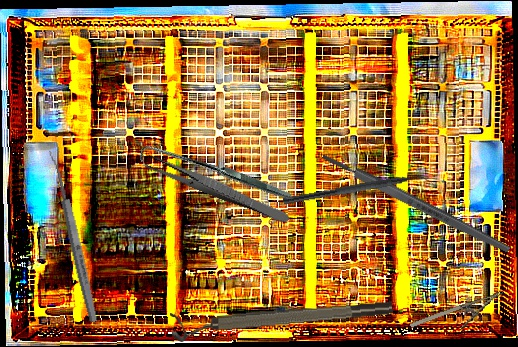Chopper: (282, 168, 435, 216)
Dressing Forceps: (141, 152, 293, 226)
Fixation Ring: (170, 297, 394, 343)
Hook Surgical: (135, 95, 294, 256)
Needle Holder: (408, 290, 510, 344)
Scalpel Handle: (320, 150, 512, 256)
Surgical Spoon: (48, 148, 100, 324)
